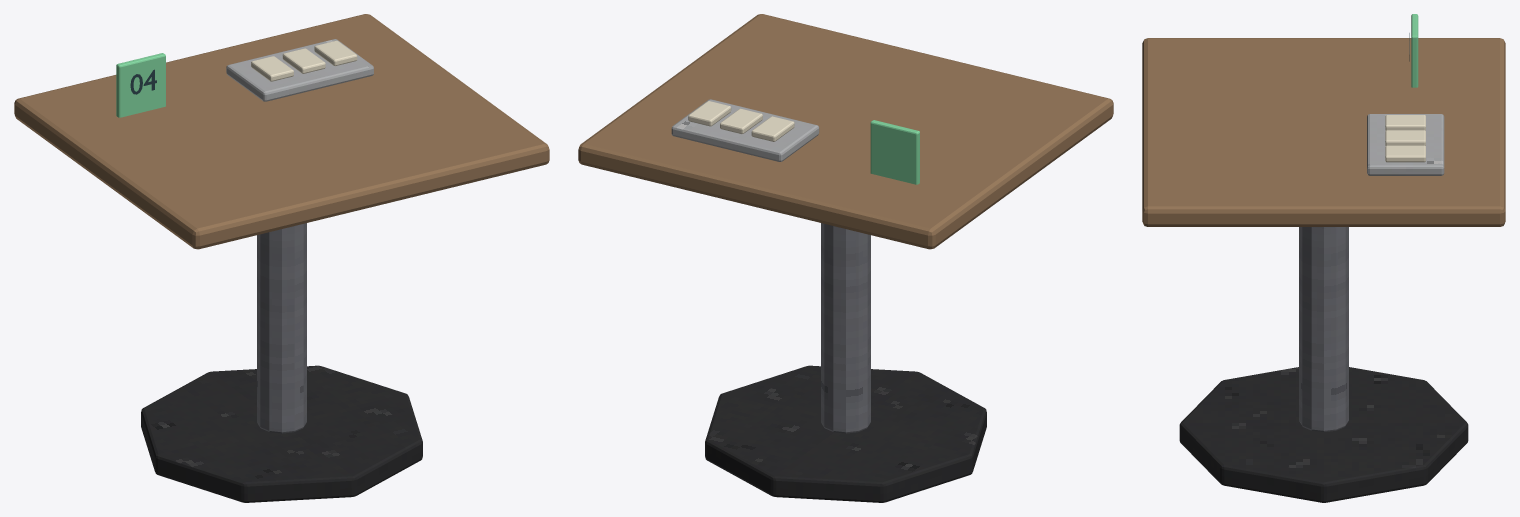
The model's file is lbd_cafe_table.glb.
The picture shows the model from 3 angles, left to right: view 1: azimuth 30°, elevation 25°; view 2: azimuth 150°, elevation 25°; view 3: azimuth 270°, elevation 25°; orthographic projection.
Parts seen in each view (by area): view 1: cafe_table__tabletop_005, cafe_table__weighted foot_001, cafe_table__column_002, cafe_table__tray_008, cafe_table__table number_020, cafe_table__napkin_017, cafe_table__napkin_011, cafe_table__napkin_014; view 2: cafe_table__tabletop_005, cafe_table__weighted foot_001, cafe_table__column_002, cafe_table__tray_008, cafe_table__table number_020, cafe_table__napkin_011, cafe_table__napkin_017, cafe_table__napkin_014; view 3: cafe_table__tabletop_005, cafe_table__weighted foot_001, cafe_table__column_002, cafe_table__tray_008, cafe_table__napkin_017, cafe_table__napkin_011, cafe_table__napkin_014, cafe_table__table number_020.
Boxes of the visible parts, bbox=[...] form: cafe_table__tabletop_005: bbox=[14, 14, 549, 249]; cafe_table__weighted foot_001: bbox=[141, 365, 422, 502]; cafe_table__column_002: bbox=[257, 223, 306, 433]; cafe_table__tray_008: bbox=[226, 39, 373, 101]; cafe_table__table number_020: bbox=[116, 53, 165, 117]; cafe_table__napkin_017: bbox=[314, 40, 357, 66]; cafe_table__napkin_011: bbox=[251, 56, 293, 81]; cafe_table__napkin_014: bbox=[282, 48, 325, 73]; cafe_table__tabletop_005: bbox=[578, 14, 1113, 249]; cafe_table__weighted foot_001: bbox=[705, 365, 986, 502]; cafe_table__column_002: bbox=[821, 223, 870, 433]; cafe_table__tray_008: bbox=[671, 99, 819, 161]; cafe_table__table number_020: bbox=[870, 120, 919, 184]; cafe_table__napkin_011: bbox=[751, 116, 794, 141]; cafe_table__napkin_017: bbox=[688, 101, 731, 126]; cafe_table__napkin_014: bbox=[720, 108, 762, 134]; cafe_table__tabletop_005: bbox=[1142, 38, 1505, 226]; cafe_table__weighted foot_001: bbox=[1179, 367, 1468, 502]; cafe_table__column_002: bbox=[1299, 227, 1348, 431]; cafe_table__tray_008: bbox=[1367, 114, 1444, 175]; cafe_table__napkin_017: bbox=[1385, 145, 1425, 162]; cafe_table__napkin_011: bbox=[1385, 115, 1425, 130]; cafe_table__napkin_014: bbox=[1385, 130, 1425, 145]; cafe_table__table number_020: bbox=[1411, 14, 1418, 87].
Bounding box in the file's own units: 0.9 × 0.905 × 0.8.
Materials: 7 (3 with a texture image).
